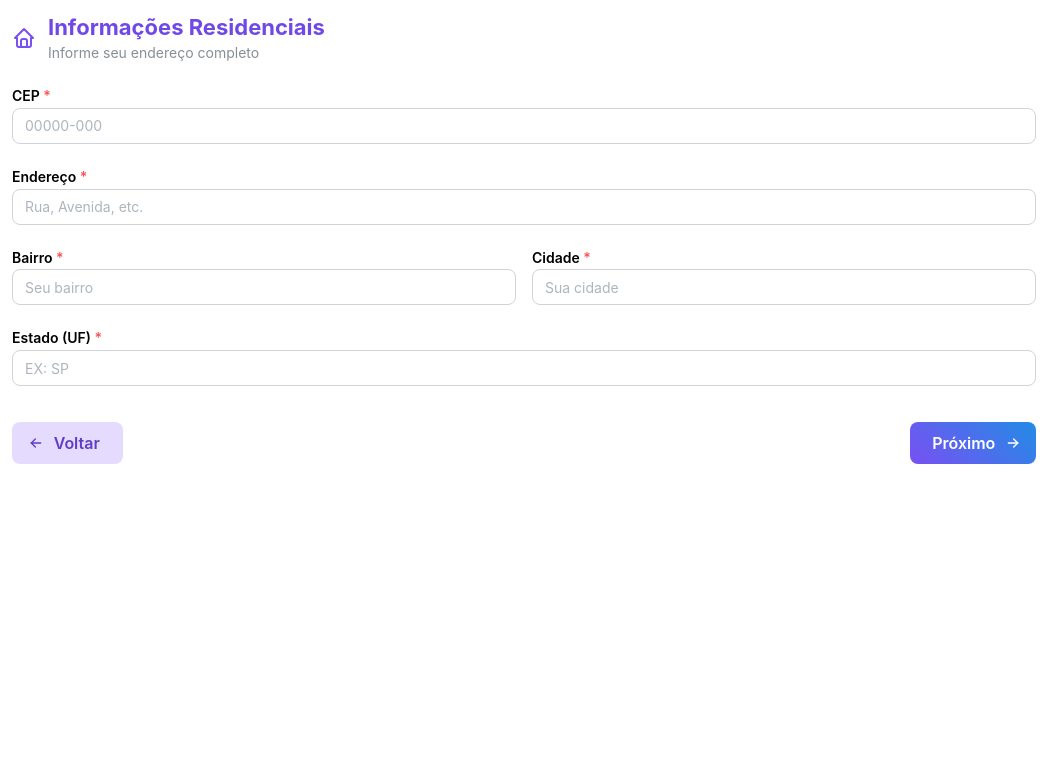
Scenario: Step2ResidentialInfo › mostra erros de validação quando submete vazio
The image size is (1048, 780).
Click the button "Próximo" at (973, 443), box x1=910 y1=422 x2=1036 y2=464
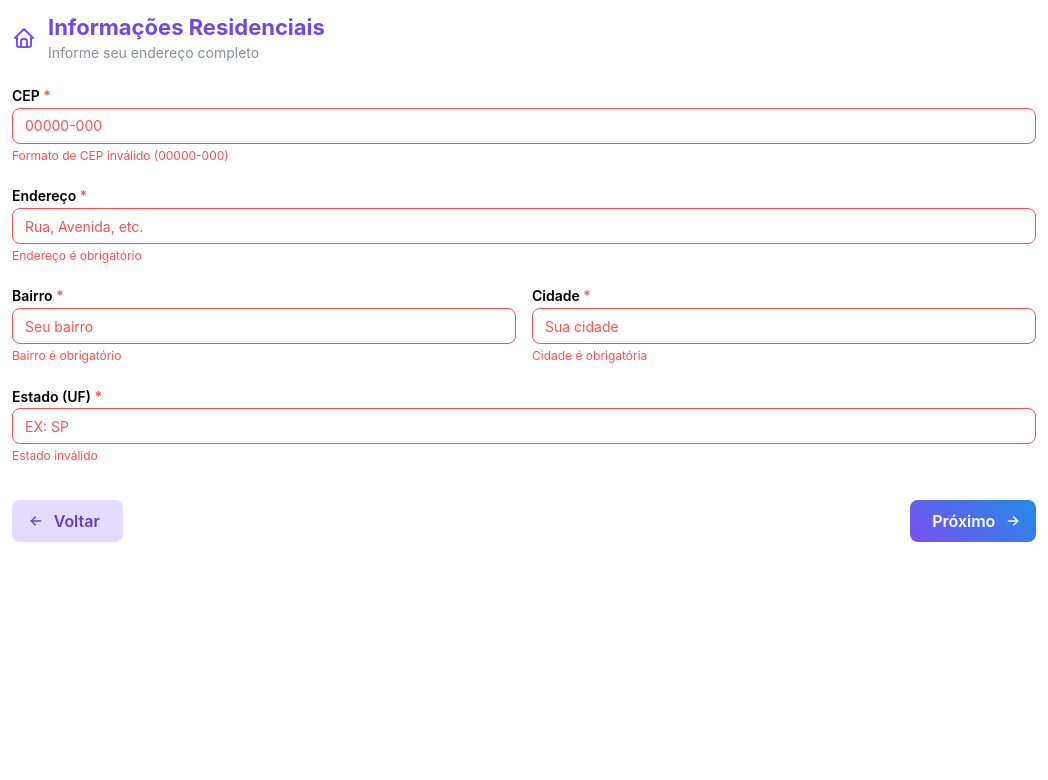
Expected: the text "Formato de CEP inválido (00000-000)" is shown, x1=12 y1=148 x2=229 y2=163
